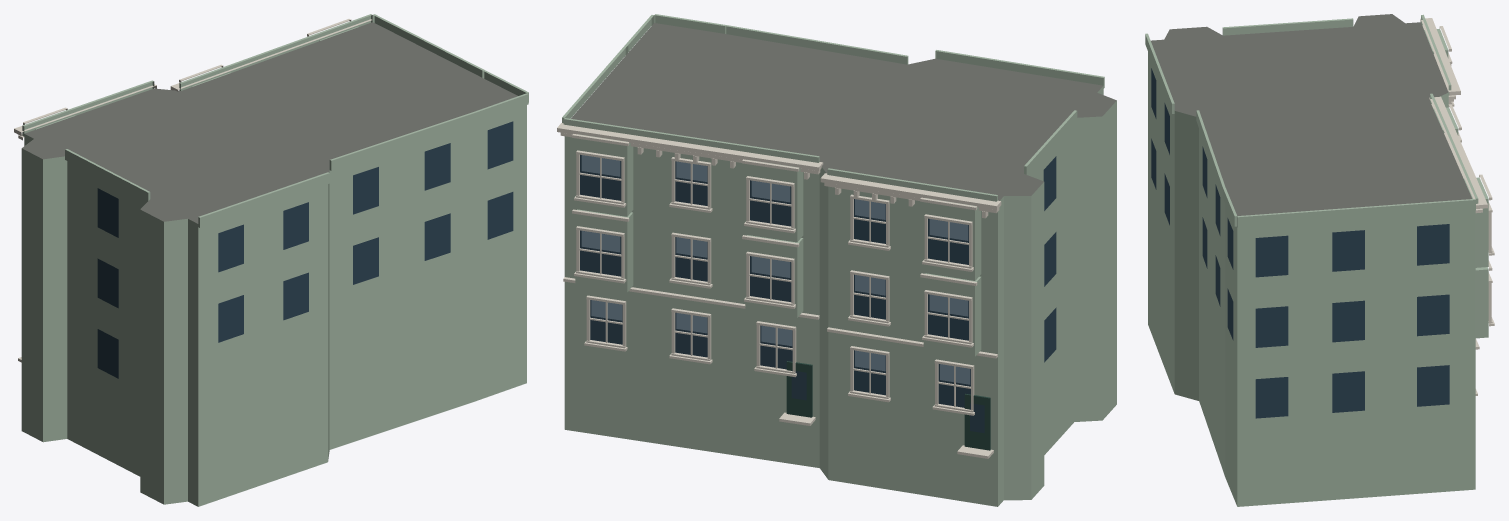
3 renders of one model, left to right at view 1: azimuth 30°, elevation 25°; view 2: azimuth 150°, elevation 25°; view 3: azimuth 270°, elevation 25°, orthographic. The views are drawn at different scales.
Visible parts, largest first — view 1: Footprint 0 / surface 2, Footprint 0 / surface 1, Inset glazing, Facade bay volumes, Cornices and window frames; view 2: Footprint 0 / surface 2, Footprint 0 / surface 1, Cornices and window frames, Facade bay volumes, Inset glazing, Sky reflection panels, Storefronts and doors; view 3: Footprint 0 / surface 2, Footprint 0 / surface 1, Inset glazing, Facade bay volumes, Cornices and window frames.
Part boxes in pixels (x1=…): Footprint 0 / surface 2: x1=21, y1=105, x2=526, y2=506; Footprint 0 / surface 1: x1=22, y1=22, x2=517, y2=223; Inset glazing: x1=97, y1=121, x2=513, y2=378; Facade bay volumes: x1=22, y1=14, x2=528, y2=227; Cornices and window frames: x1=14, y1=19, x2=371, y2=362; Footprint 0 / surface 2: x1=564, y1=86, x2=1116, y2=506; Footprint 0 / surface 1: x1=571, y1=23, x2=1116, y2=200; Cornices and window frames: x1=557, y1=123, x2=1001, y2=458; Facade bay volumes: x1=562, y1=14, x2=1104, y2=356; Inset glazing: x1=580, y1=154, x2=1056, y2=433; Sky reflection panels: x1=581, y1=155, x2=970, y2=384; Storefronts and doors: x1=786, y1=361, x2=990, y2=450; Footprint 0 / surface 2: x1=1148, y1=52, x2=1475, y2=506; Footprint 0 / surface 1: x1=1151, y1=14, x2=1472, y2=215; Inset glazing: x1=1151, y1=68, x2=1449, y2=418; Facade bay volumes: x1=1145, y1=14, x2=1488, y2=338; Cornices and window frames: x1=1420, y1=18, x2=1494, y2=395.
Size of the model in its own units: 21.79 by 14.04 by 15.29.
